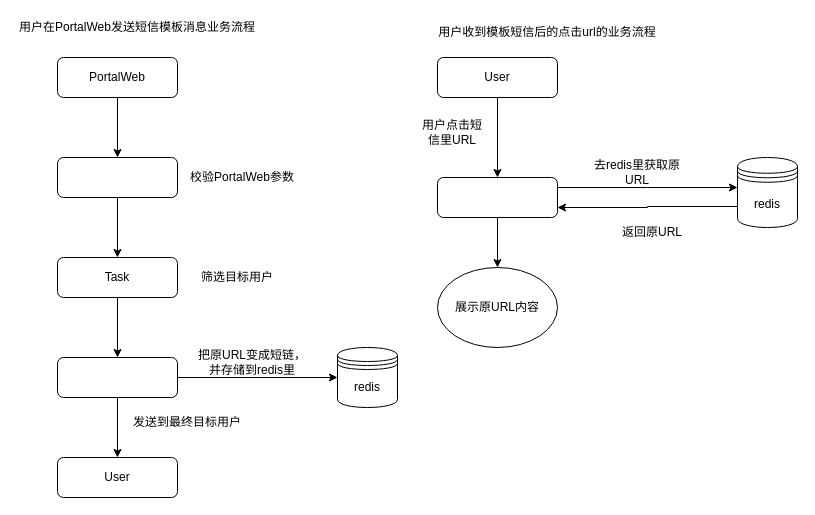
The diagram is 815 pixels wide and 515 high, and some of its shapes have lost their labels. The centre of each missing label's shape, as x and y in pixels:
"API" belongs at pixel 117 177.
"SMS点击模块" belongs at pixel 497 197.
"发送SMS模块" belongs at pixel 117 377.
